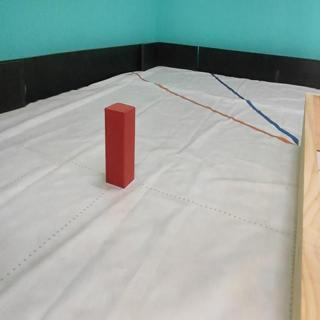redbox: (105, 101, 136, 188)
